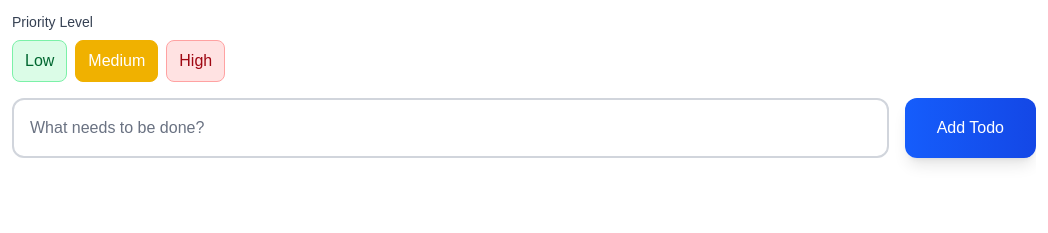
it: TodoInput › clears error message when user starts typing valid text
# Trigger error first
Click the button "Add Todo": (970, 128) [905, 98, 1036, 158]
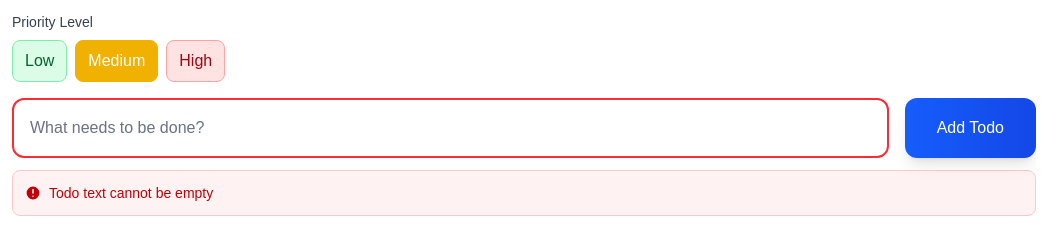
Result: the text "Todo text cannot be empty" is shown at [25, 185, 213, 201]
# Start typing valid text
In the field with placeholder "What needs to be done?": (450, 128) [12, 98, 889, 158], type "Valid text"
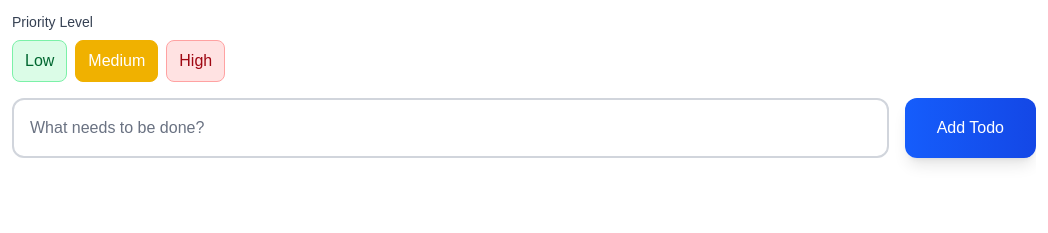
Result: the text "Todo text cannot be empty" is gone
